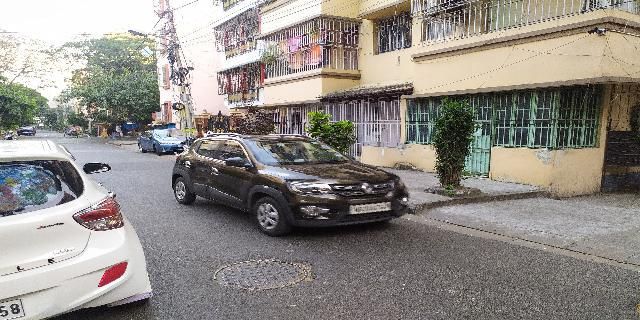Car: (1, 136, 153, 316), (173, 130, 414, 233), (136, 126, 180, 160)
